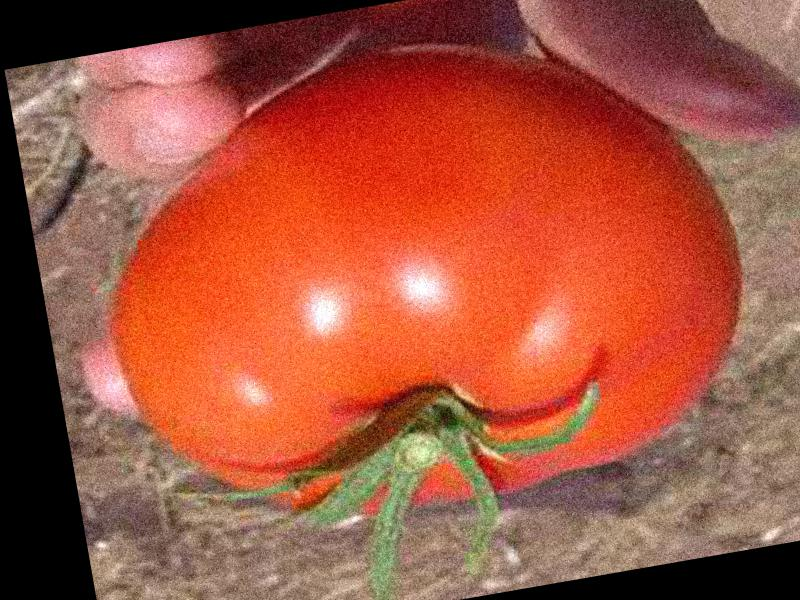Tomato: (75, 1, 772, 554)
